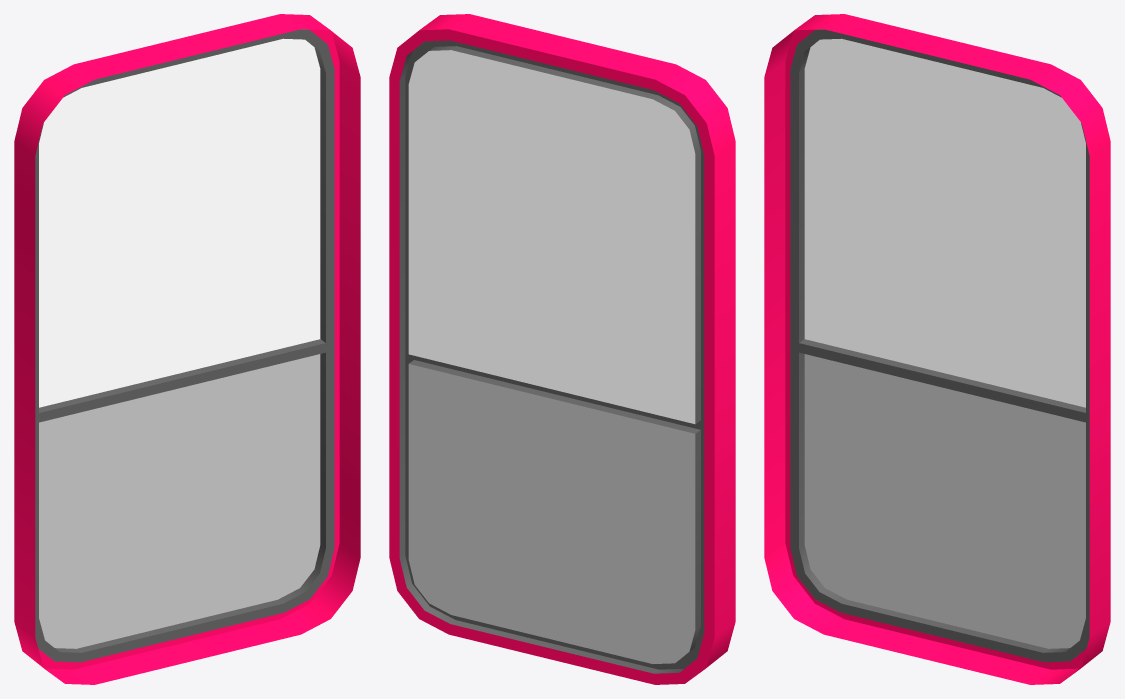
File: recipe_bg.glb
The picture shows the model from 3 angles, left to right: view 1: azimuth 30°, elevation 25°; view 2: azimuth 150°, elevation 25°; view 3: azimuth 330°, elevation 25°; orthographic projection.
Parts seen in each view (by area): view 1: recipe_bg; view 2: recipe_bg; view 3: recipe_bg.
Part boxes in pixels (x1,y1,x2,y2): recipe_bg: (14, 14, 360, 684); recipe_bg: (389, 14, 735, 684); recipe_bg: (764, 14, 1110, 684).
Size of the model in its own units: 0.9 by 1.6 by 0.1.
1 material, 1 textured.
